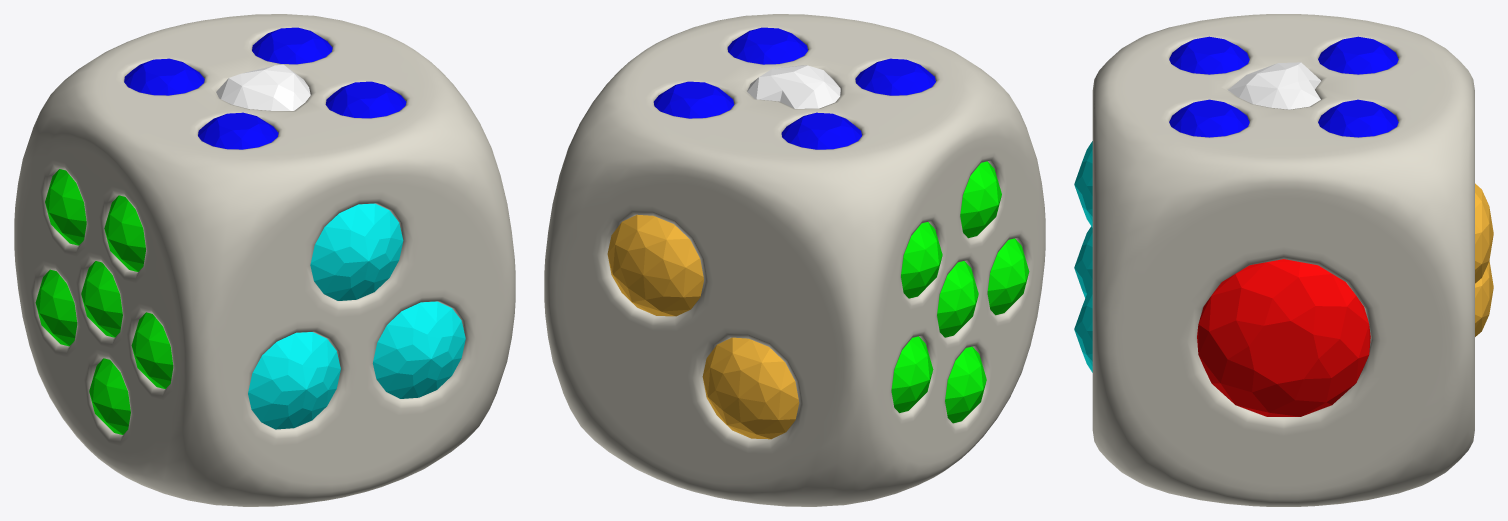
The model's file is GemDiceB.glb.
3 renders of one model, left to right at view 1: azimuth 30°, elevation 25°; view 2: azimuth 150°, elevation 25°; view 3: azimuth 270°, elevation 25°, orthographic.
Parts seen in each view (by area): view 1: Object010; view 2: Object010; view 3: Object010.
Part boxes in pixels (x1,y1,x2,y2): Object010: (14, 14, 515, 506); Object010: (544, 14, 1045, 506); Object010: (1074, 14, 1493, 506).
Size of the model in its own units: 0.5592 by 0.5505 by 0.5489.
